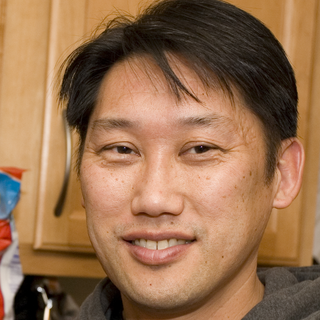eye: (177, 138, 226, 163), (97, 138, 144, 164)
